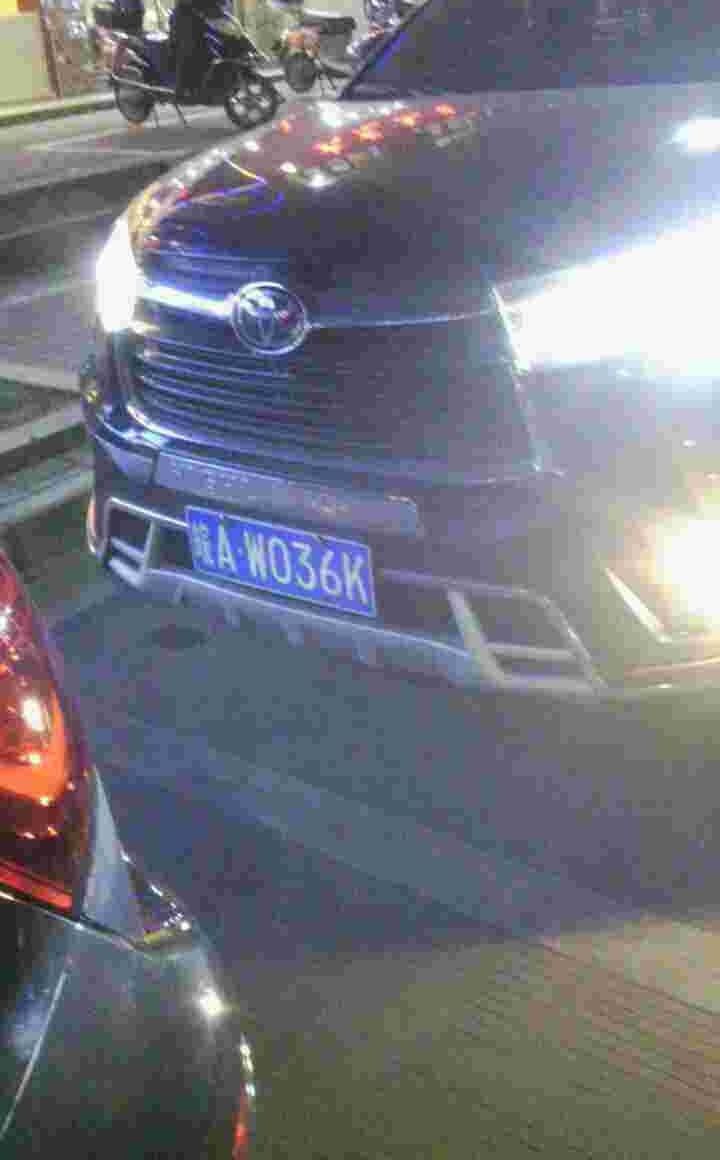car: (178, 509, 386, 614)
